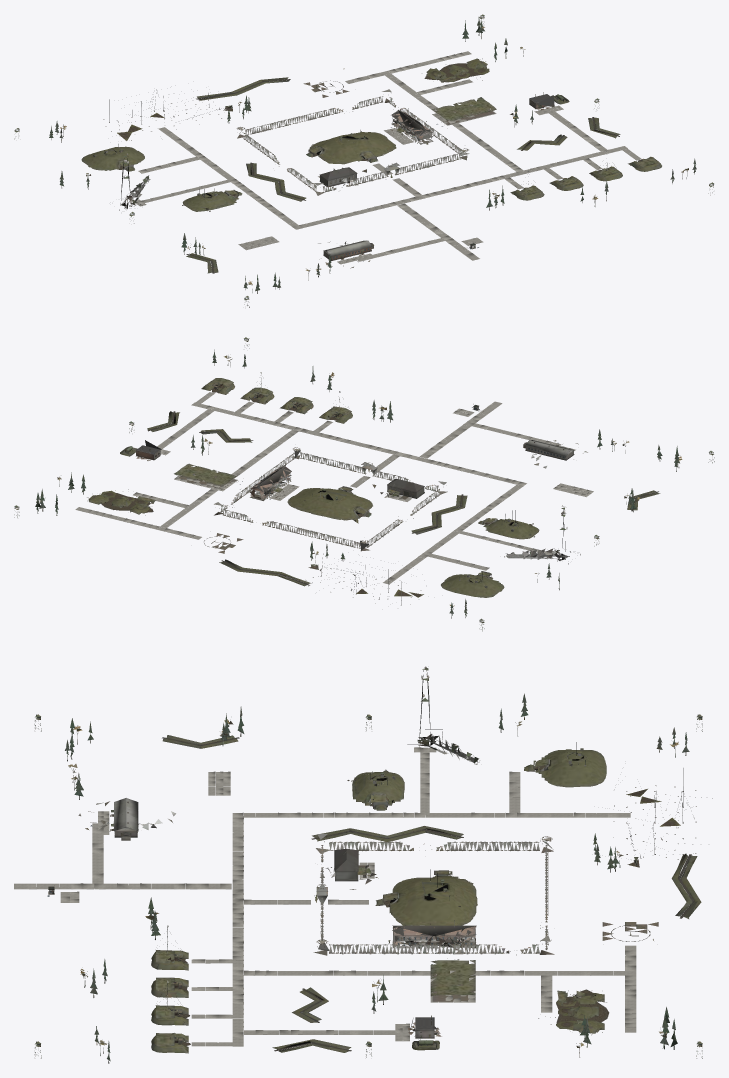
Rendered from site_cp_a_lo.glb.
The picture shows the model from 3 angles, top to bottom: view 1: azimuth 30°, elevation 25°; view 2: azimuth 150°, elevation 25°; view 3: azimuth 270°, elevation 25°; orthographic projection. The views are drawn at different scales.
Visible parts, largest first — view 1: deco|tile_conc, deco|F_A, deco_trees|F_A, b_bunker1|F_A, b_bunker1_ruin|F_B, b_bunker2|F_A, b_ammo_ruin|F_B, b_bunker2_ruin|F_B, b_comms|F_A, b_barracks|F_A, b_hq|F_A, b_store|F_A (+1 smaller); view 2: deco|tile_conc, deco|F_A, deco_trees|F_A, b_bunker1|F_A, b_bunker1_ruin|F_B, b_bunker2|F_A, b_bunker2_ruin|F_B, b_ammo_ruin|F_B, b_barracks|F_A, b_store|F_A, b_comms|F_A, b_hq|F_A (+2 smaller); view 3: deco|tile_conc, deco|F_A, deco_trees|F_A, b_bunker1|F_A, b_bunker1_ruin|F_B, b_bunker2|F_A, b_ammo_ruin|F_B, b_bunker2_ruin|F_B, b_hq|F_A, b_comms|F_A, b_barracks|F_A, b_hq_ruin|F_B (+4 smaller).
Part boxes in pixels (x1,y1,x2,y2): deco|tile_conc: (133, 51, 641, 264); deco|F_A: (14, 14, 713, 307); deco_trees|F_A: (49, 16, 696, 293); b_bunker1|F_A: (306, 130, 395, 163); b_bunker1_ruin|F_B: (310, 131, 396, 164); b_bunker2|F_A: (81, 144, 144, 171); b_ammo_ruin|F_B: (424, 58, 489, 82); b_bunker2_ruin|F_B: (82, 147, 144, 171); b_comms|F_A: (182, 188, 241, 211); b_barracks|F_A: (323, 240, 373, 261); b_hq|F_A: (391, 108, 433, 143); b_store|F_A: (319, 167, 357, 187); deco|tile_conc: (75, 392, 593, 584); deco|F_A: (14, 337, 714, 631); deco_trees|F_A: (35, 349, 682, 618); b_bunker1|F_A: (287, 486, 372, 520); b_bunker1_ruin|F_B: (288, 488, 372, 523); b_bunker2|F_A: (441, 571, 504, 597); b_bunker2_ruin|F_B: (443, 573, 503, 597); b_ammo_ruin|F_B: (87, 489, 153, 515); b_barracks|F_A: (523, 440, 574, 460); b_store|F_A: (387, 479, 424, 499); b_comms|F_A: (478, 510, 539, 539); b_hq|F_A: (250, 466, 291, 500); deco|tile_conc: (14, 747, 636, 1046); deco|F_A: (34, 714, 702, 1058); deco_trees|F_A: (65, 693, 689, 1063); b_bunker1|F_A: (375, 869, 477, 925); b_bunker1_ruin|F_B: (378, 874, 477, 925); b_bunker2|F_A: (526, 742, 606, 787); b_ammo_ruin|F_B: (538, 989, 609, 1035); b_bunker2_ruin|F_B: (524, 748, 604, 787); b_hq|F_A: (388, 920, 476, 948); b_comms|F_A: (347, 769, 404, 809); b_barracks|F_A: (110, 798, 138, 840); b_hq_ruin|F_B: (388, 924, 476, 959).
Size of the model in its own units: 438 by 52.48 by 375.
Materials: 44 (33 with a texture image).
